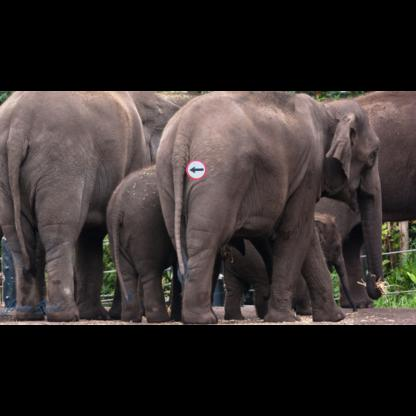R-24a: (186, 159, 206, 180)
